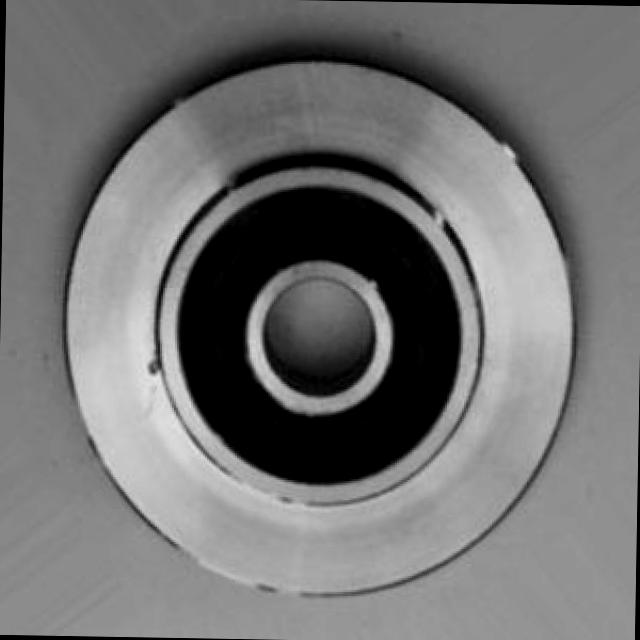Defect: (142, 355, 167, 387)
